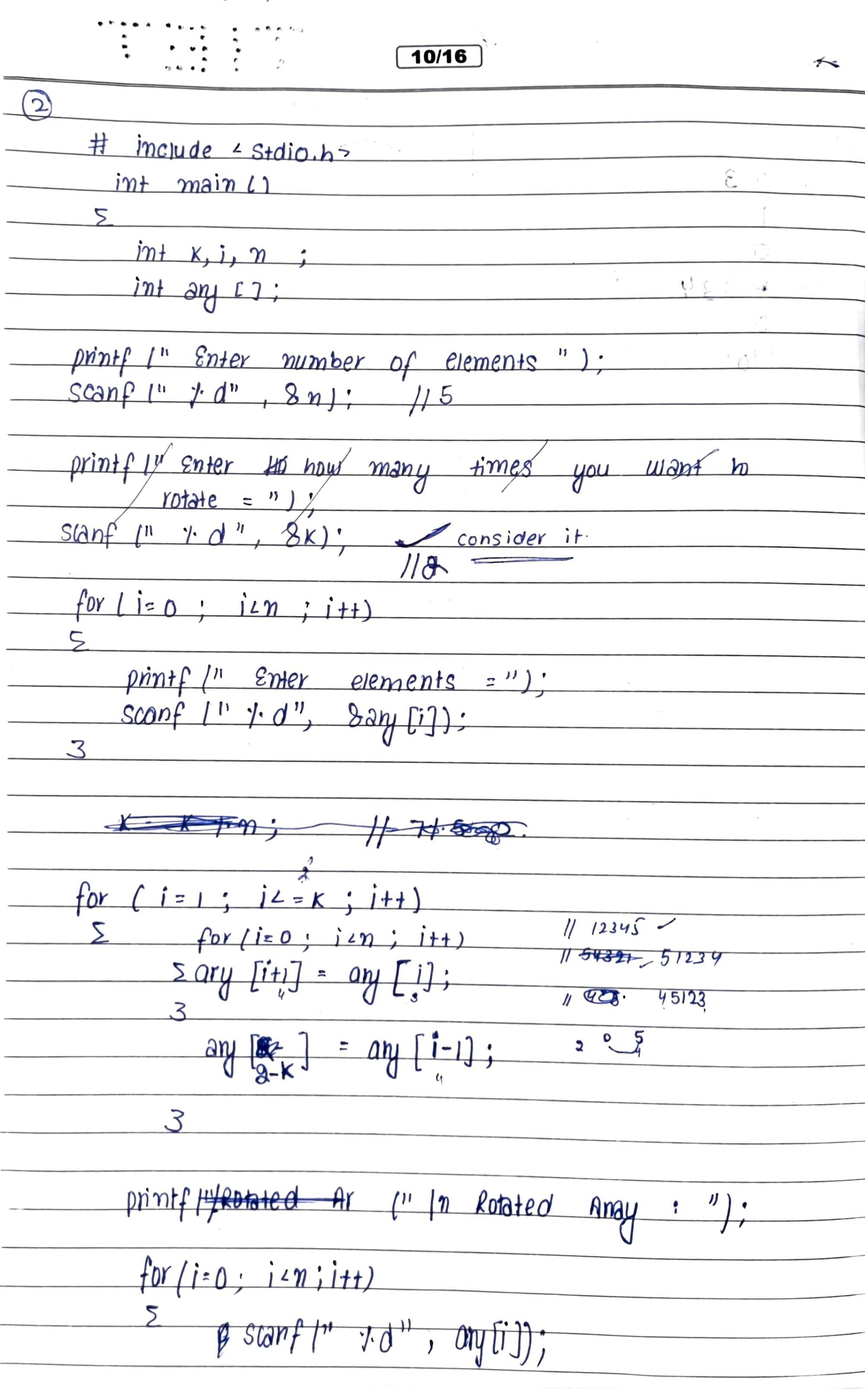cuttings: (66, 435, 755, 524), (99, 809, 533, 851), (193, 1180, 360, 1226), (577, 946, 645, 965), (582, 987, 627, 1008), (255, 1035, 284, 1062)
